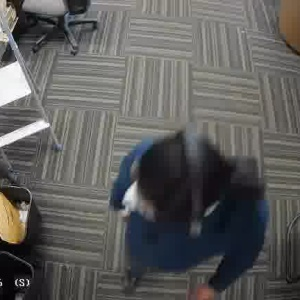person: (121, 138, 246, 293)
